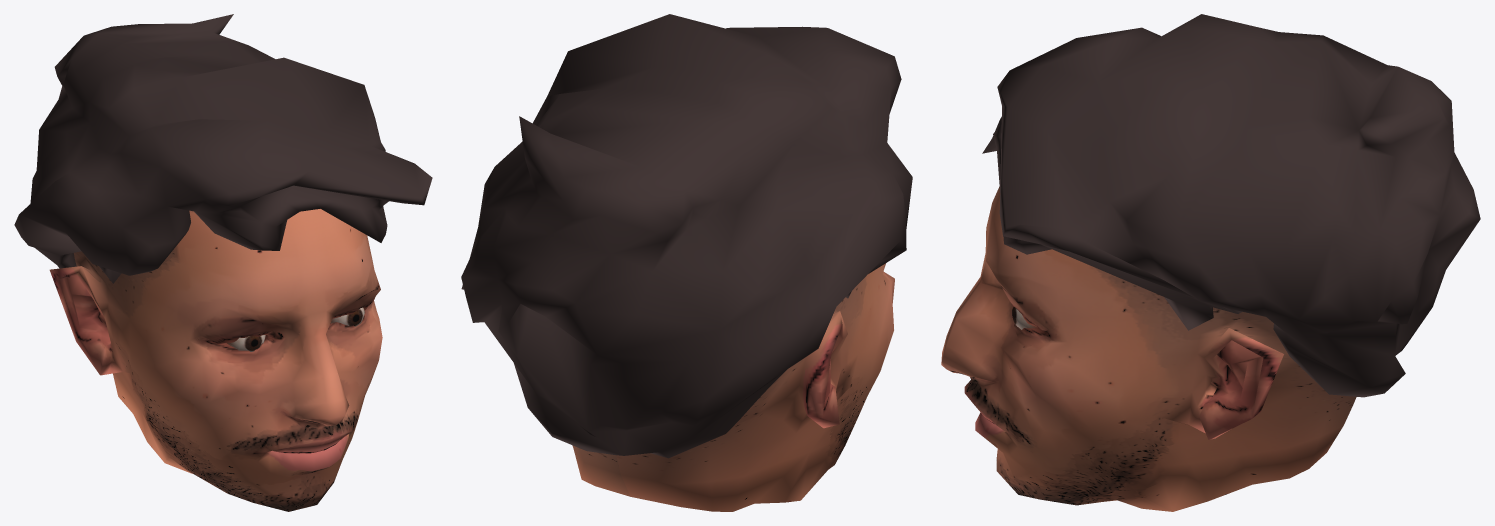
File: mazouz.glb
3 views of the same model, side by side, from view 1: azimuth 30°, elevation 25°; view 2: azimuth 150°, elevation 25°; view 3: azimuth 270°, elevation 25° (orthographic). The views are drawn at different scales.
Visible parts, largest first — view 1: Hair14.001, HG_Body.001, HG_Eyes; view 2: Hair14.001, HG_Body.001; view 3: Hair14.001, HG_Body.001.
Part boxes in pixels (x1,y1,x2,y2): Hair14.001: (14,14,432,283); HG_Body.001: (49,209,382,511); HG_Eyes: (226,307,364,351); Hair14.001: (461,14,912,458); HG_Body.001: (572,263,894,511); Hair14.001: (982,14,1480,397); HG_Body.001: (941,186,1356,511).
Size of the model in its own units: 0.2299 by 0.2718 by 0.3025.
Materials: 3 (2 with a texture image).
